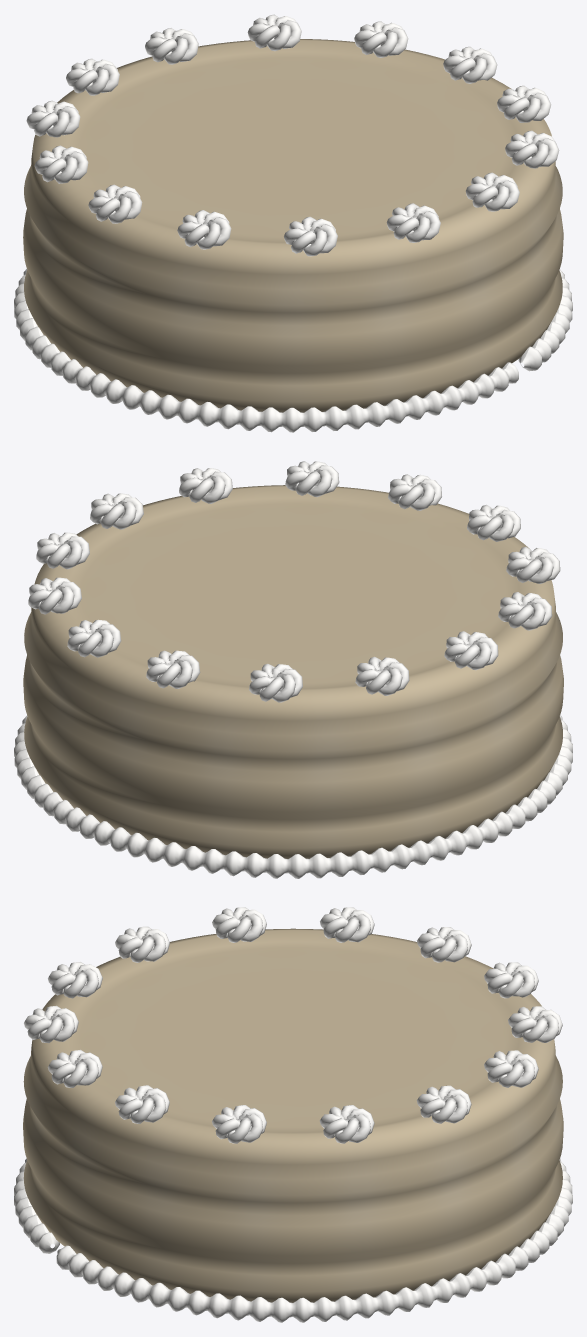
Rendered from cake.glb.
The picture shows the model from 3 angles, top to bottom: view 1: azimuth 30°, elevation 25°; view 2: azimuth 150°, elevation 25°; view 3: azimuth 270°, elevation 25°; orthographic projection.
Size of the model in its own units: 0.2644 by 0.1034 by 0.2643.
